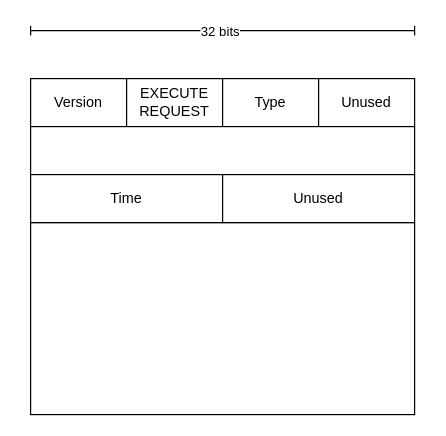
Some shapes in this 446 by 436 pixel diagram are drawn without their labels. The shapes that lost their labels are listed below. From the top down, each one's centre as x and y in pixels, then its label:
At (222,150): "PID".
At (222,318): "Command 2400 bits".
